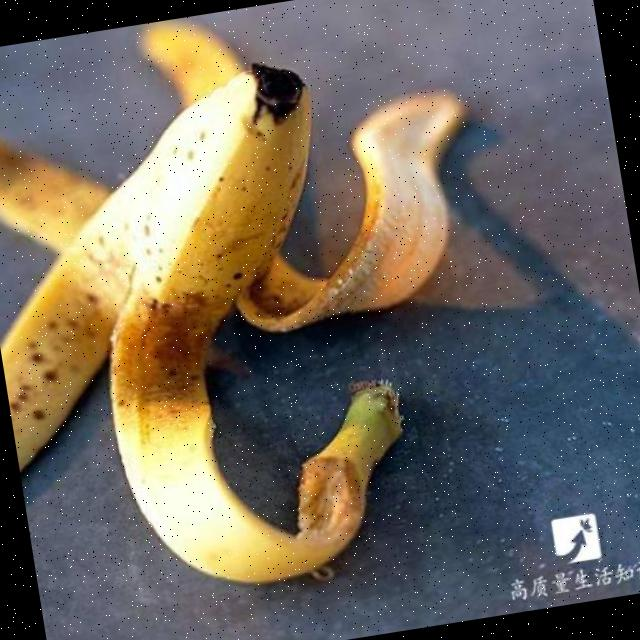banana-peel: (0, 0, 536, 622)
